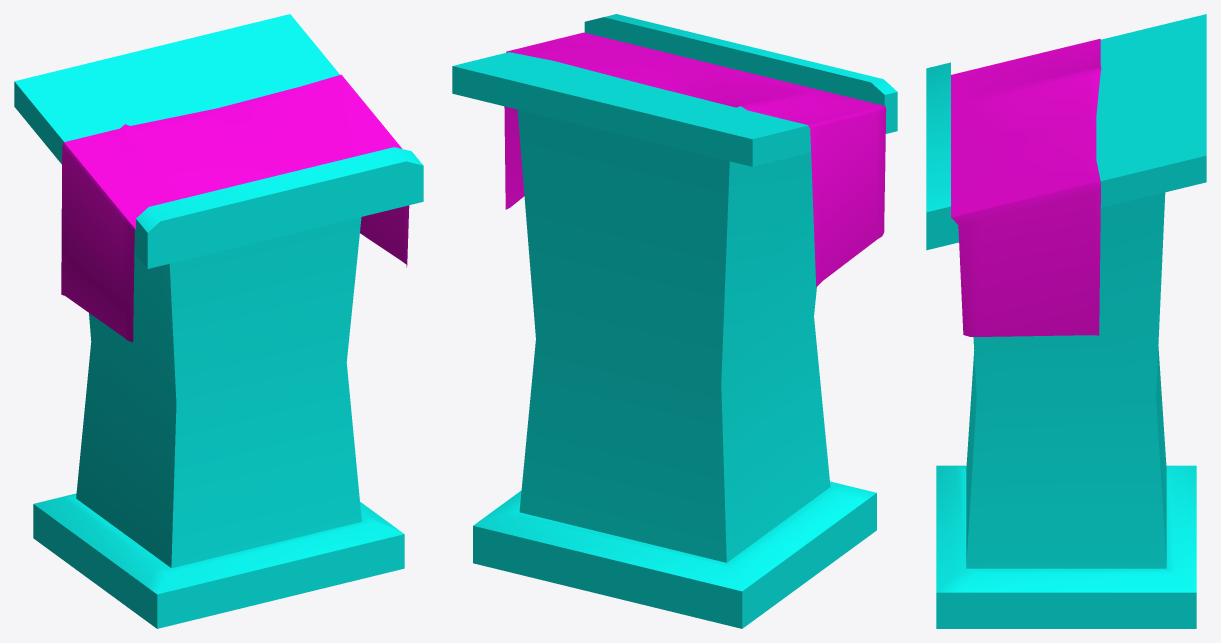
File: altar.fbx
3 renders of one model, left to right at view 1: azimuth 30°, elevation 25°; view 2: azimuth 150°, elevation 25°; view 3: azimuth 270°, elevation 25°, orthographic. The views are drawn at different scales.
Visible parts, largest first — view 1: altar; view 2: altar; view 3: altar.
Boxes of the visible parts, <box> form: altar: <box>14,14,423,628</box>; altar: <box>452,14,897,628</box>; altar: <box>926,14,1206,628</box>.
Size of the model in its own units: 84.88 by 129 by 68.14.
